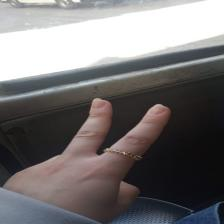two: (31, 98, 175, 216)
